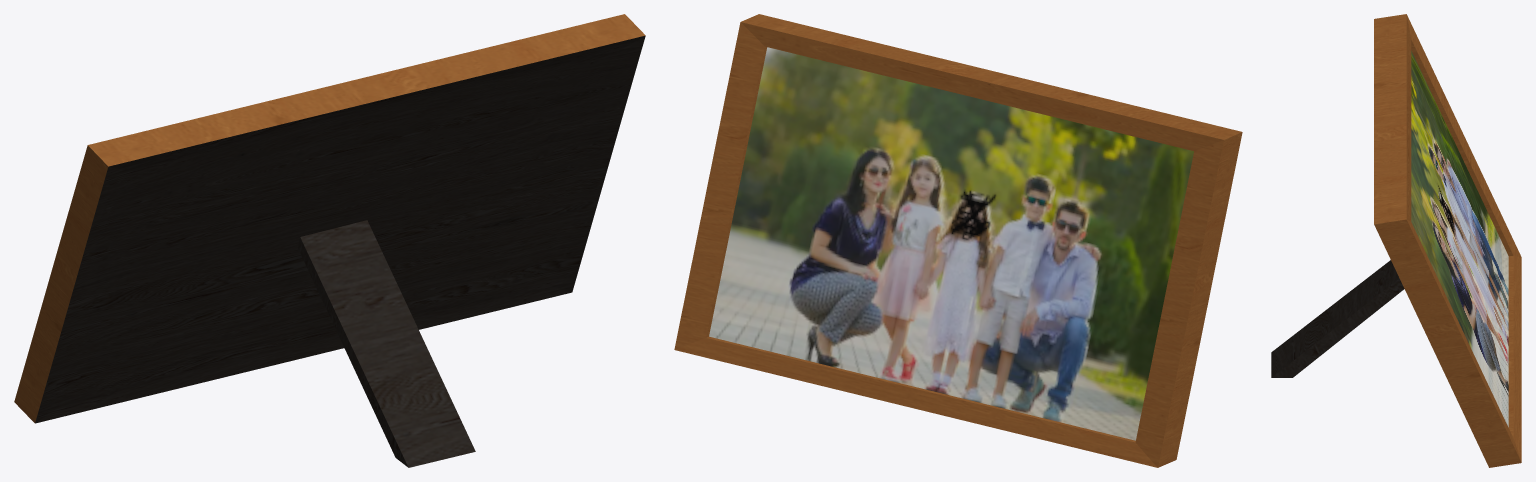
The model's file is pictureFrameDepression.fbx.
3 views of the same model, side by side, from view 1: azimuth 30°, elevation 25°; view 2: azimuth 150°, elevation 25°; view 3: azimuth 270°, elevation 25° (orthographic). The views are drawn at different scales.
Visible parts, largest first — view 1: pictureFrame2; view 2: pictureFrame2; view 3: pictureFrame2.
Part boxes in pixels (x1,y1,x2,y2): pictureFrame2: (14,14,645,467); pictureFrame2: (674,14,1242,467); pictureFrame2: (1271,14,1521,467).
Size of the model in its own units: 0.3175 by 0.179 by 0.1636.
